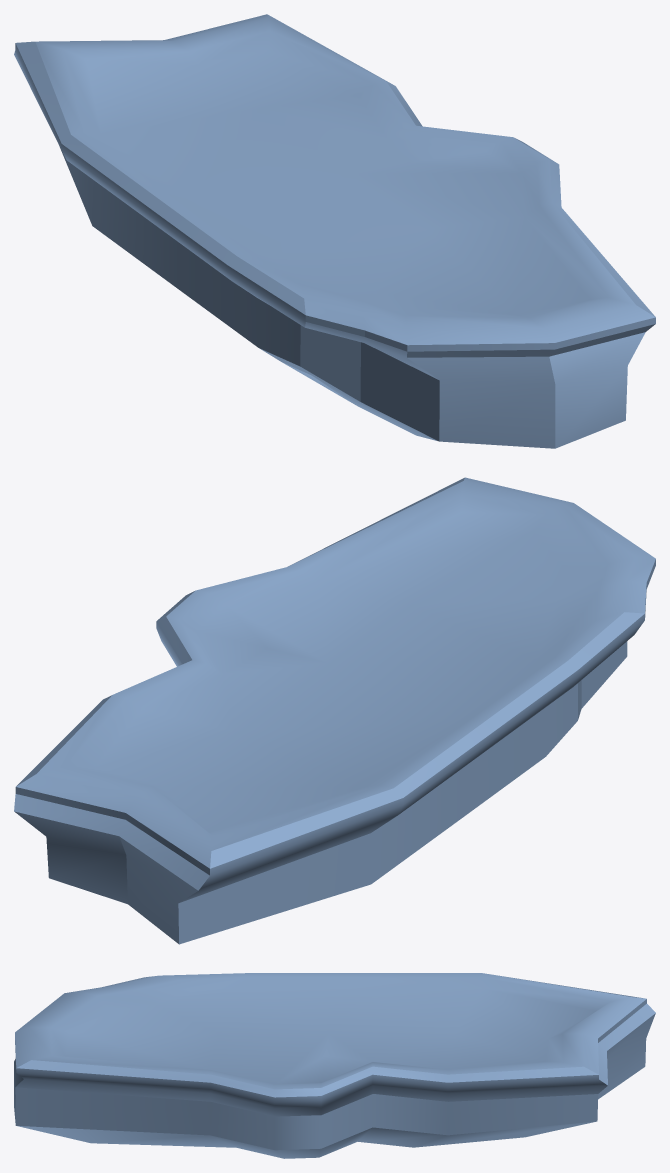
File: FloatDungeon1.fbx
3 renders of one model, top to bottom at view 1: azimuth 30°, elevation 25°; view 2: azimuth 150°, elevation 25°; view 3: azimuth 270°, elevation 25°, orthographic. The views are drawn at different scales.
Visible parts, largest first — view 1: FloatDungeon1; view 2: FloatDungeon1; view 3: FloatDungeon1.
Boxes of the visible parts, <box> form: FloatDungeon1: <box>14,14,655,448</box>; FloatDungeon1: <box>14,477,655,944</box>; FloatDungeon1: <box>14,973,655,1158</box>.
Size of the model in its own units: 323 by 714 by 125.
